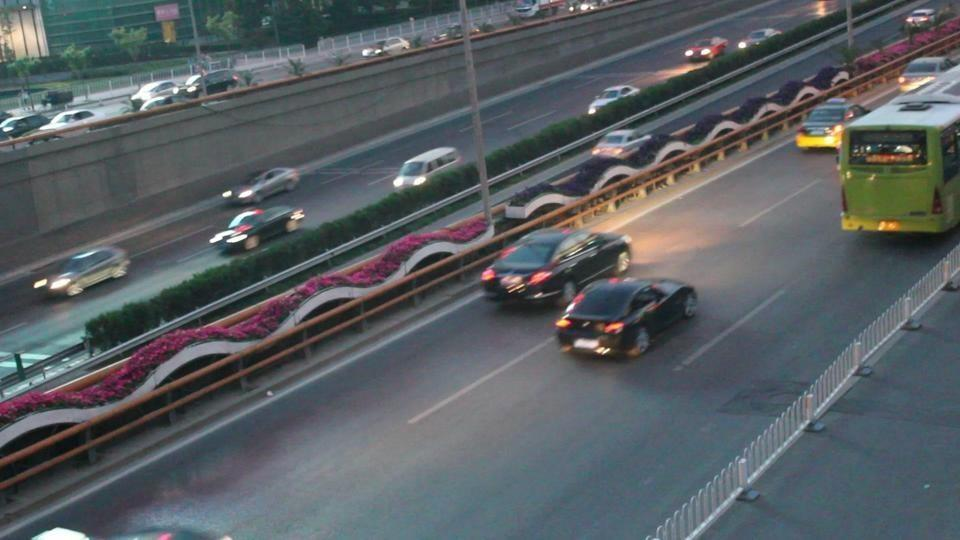car: (480, 227, 633, 307), (553, 277, 699, 360), (33, 244, 131, 297), (589, 118, 696, 165), (212, 206, 307, 254), (795, 98, 868, 152), (392, 146, 462, 191), (223, 167, 301, 205), (895, 55, 959, 96), (32, 109, 95, 141), (188, 70, 252, 96), (585, 85, 640, 115), (129, 80, 180, 112), (0, 111, 52, 141), (683, 37, 728, 62), (359, 37, 410, 59), (739, 27, 784, 50), (176, 73, 207, 98)
